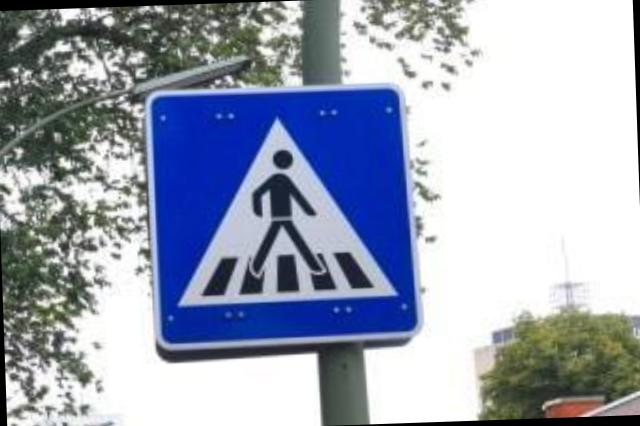crosswalk-sign: (143, 82, 425, 364)
